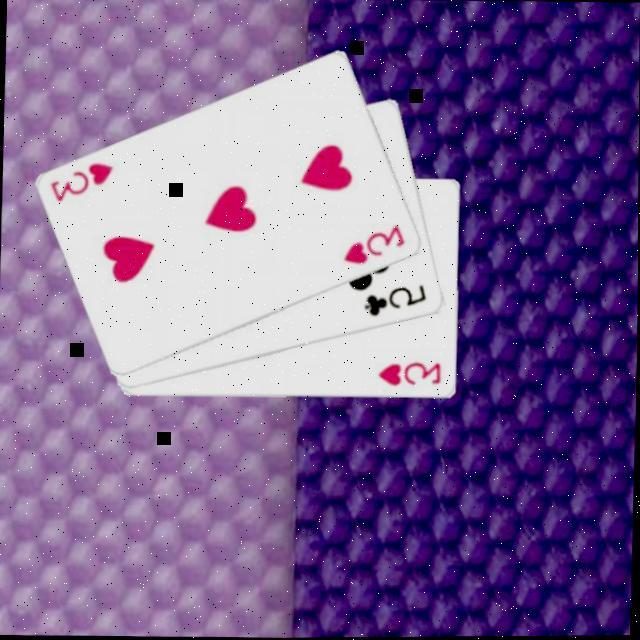3H: (338, 221, 407, 270), (46, 159, 115, 207), (374, 359, 443, 391)
5C: (359, 282, 430, 321)
